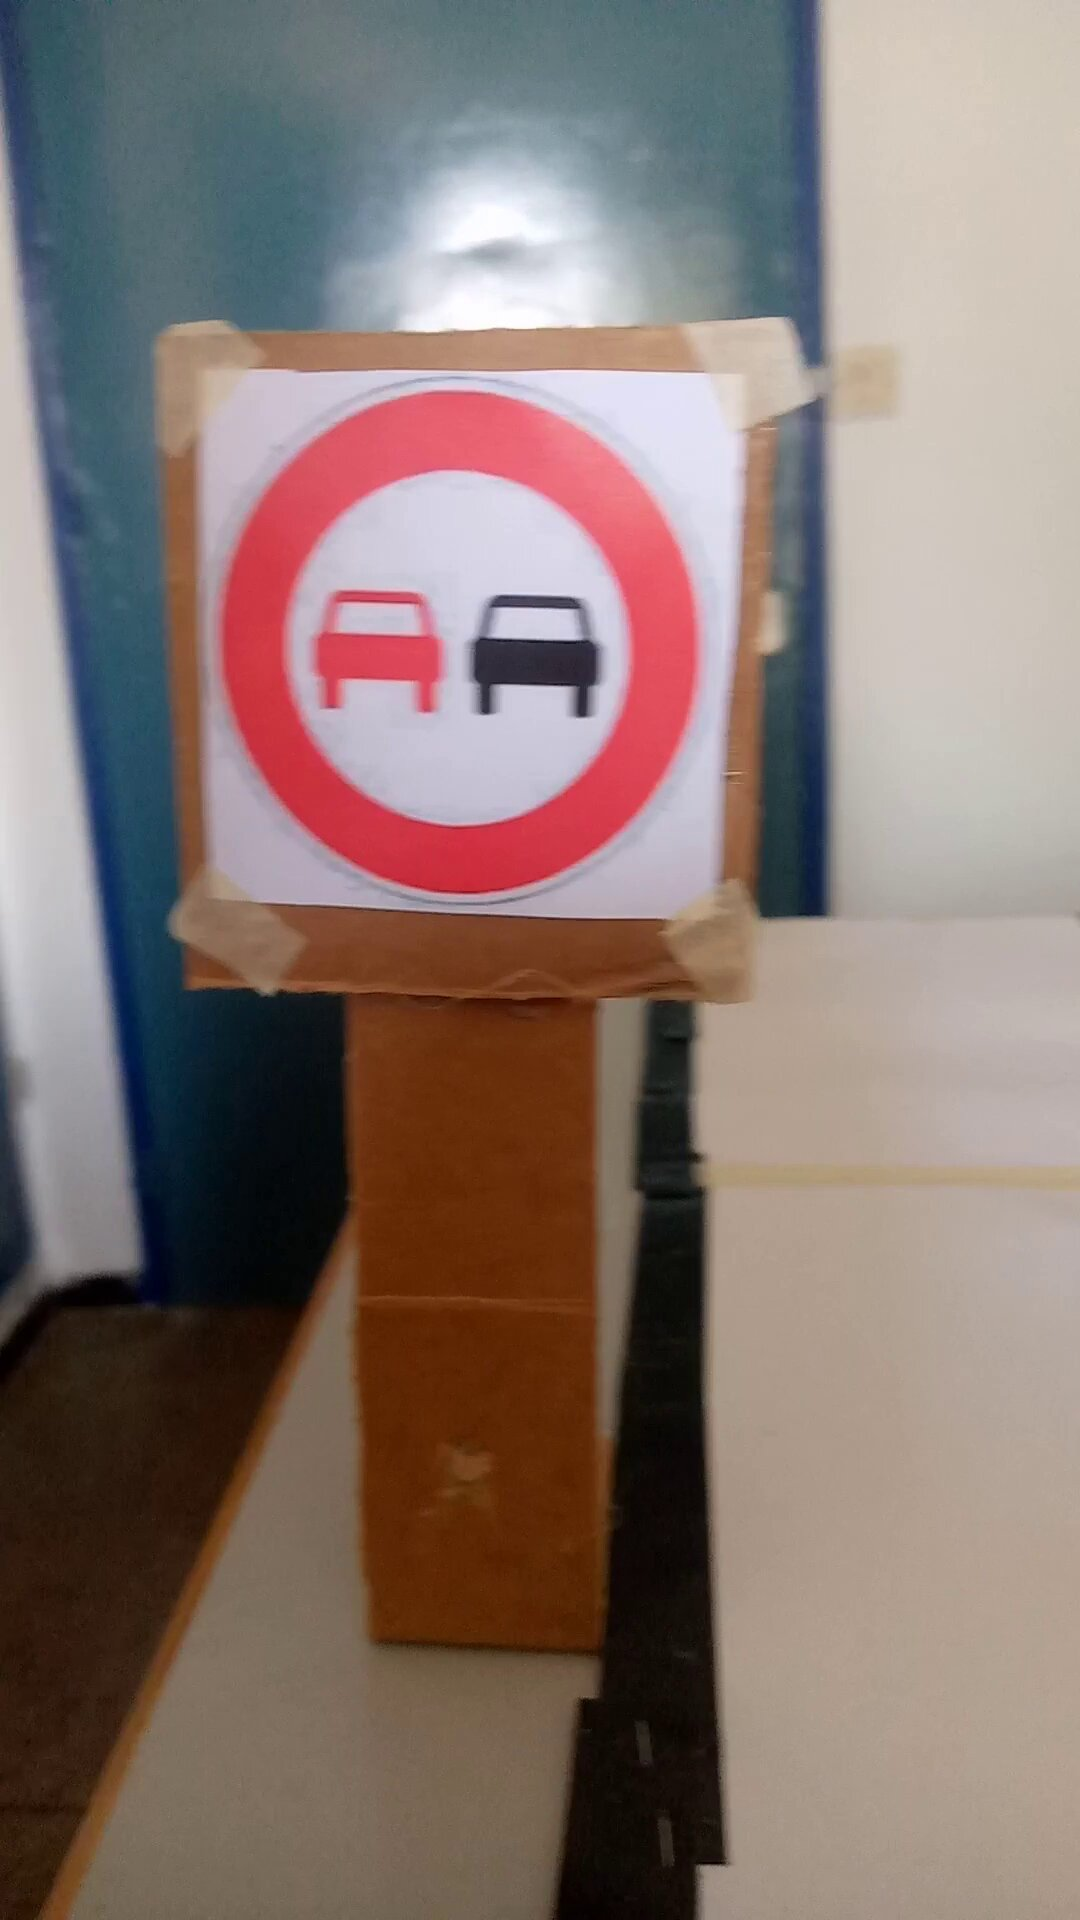panel100: (193, 353, 735, 928)
